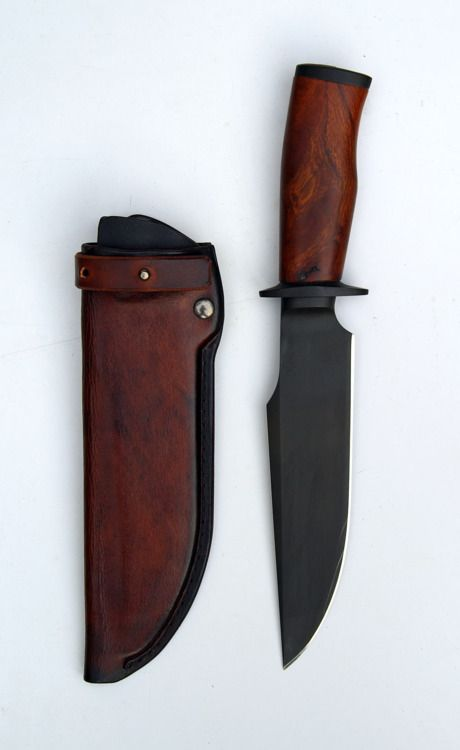knife: (255, 52, 377, 673)
